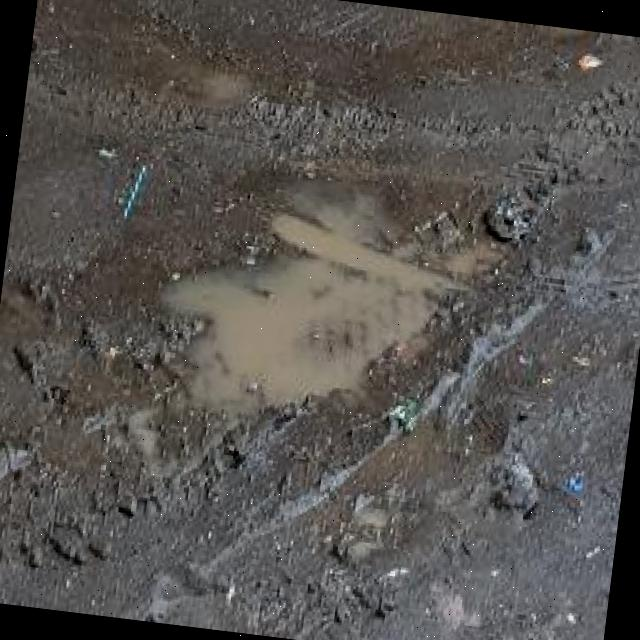stagnation: (172, 192, 478, 442)
